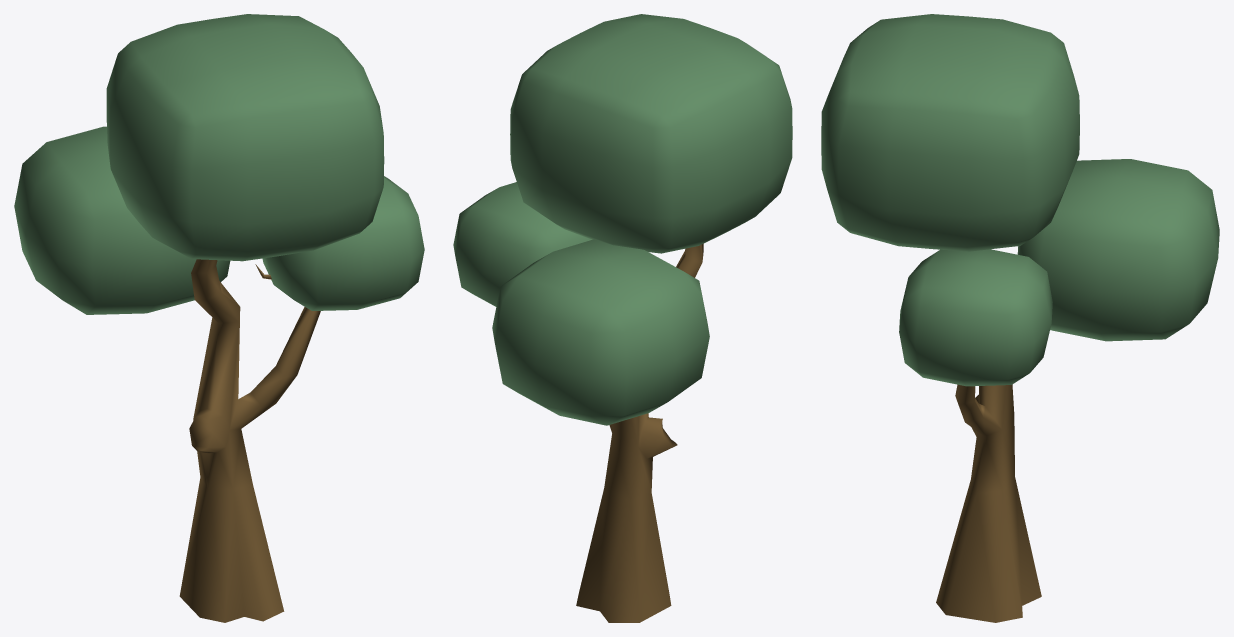
File: Resource Tree (v.2).fbx
The picture shows the model from 3 angles, left to right: view 1: azimuth 30°, elevation 25°; view 2: azimuth 150°, elevation 25°; view 3: azimuth 270°, elevation 25°; orthographic projection. The views are drawn at different scales.
Parts seen in each view (by area): view 1: Tree_7A; view 2: Tree_7A; view 3: Tree_7A.
Part boxes in pixels (x1,y1,x2,y2): Tree_7A: [14, 14, 424, 622]; Tree_7A: [453, 14, 792, 622]; Tree_7A: [821, 14, 1219, 622].
Size of the model in its own units: 184 by 334 by 218.
